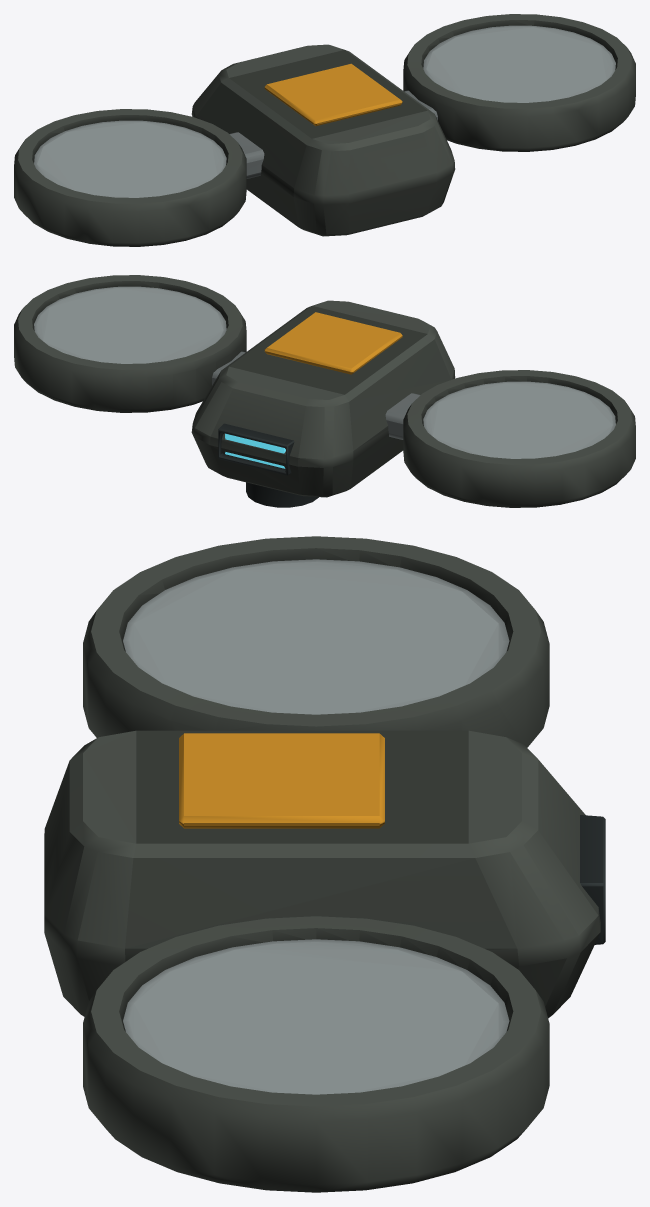
File: Drone.glb
The picture shows the model from 3 angles, top to bottom: view 1: azimuth 30°, elevation 25°; view 2: azimuth 150°, elevation 25°; view 3: azimuth 270°, elevation 25°; orthographic projection. The views are drawn at different scales.
Visible parts, largest first — view 1: export_Drone_Body; view 2: export_Drone_Body; view 3: export_Drone_Body.
Boxes of the visible parts, box(x1,y1,x2,y2) form: export_Drone_Body: box(14, 14, 635, 246); export_Drone_Body: box(14, 275, 635, 507); export_Drone_Body: box(44, 536, 605, 1192).
Bounding box in the file's own units: 3.98 × 0.74 × 1.64.
